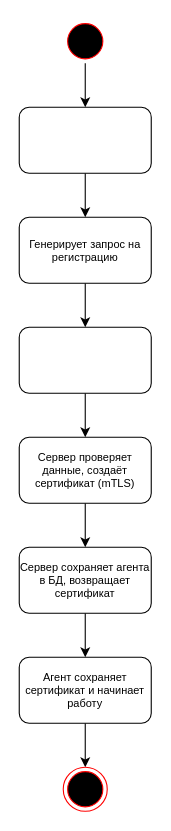
The diagram is 171 pixels wide and 831 high, and some of its shapes have lost their labels. The shapes that lost their labels are listed below. From the top down, each one's centre as x and y in pixels, then its label:
At point 84,139: "Агент запускается".
At point 84,359: "Отправляет запрос на сервер".
